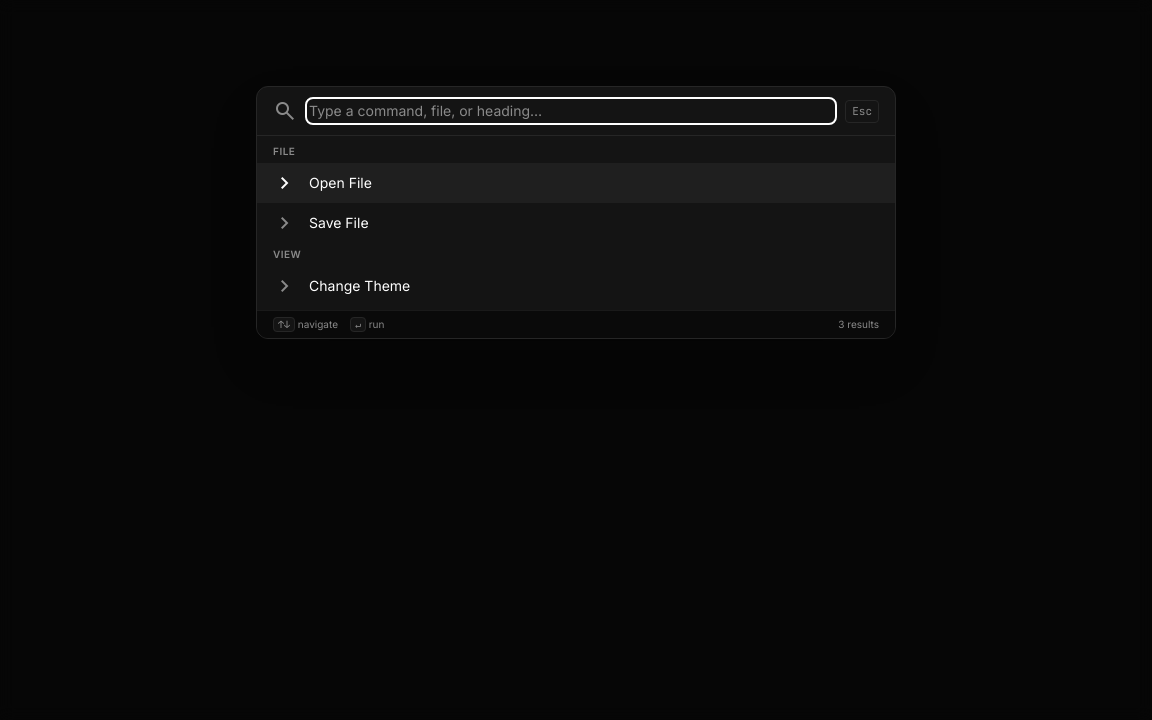
Test: CommandPalette › announces an empty result set instead of going silent
In the dropdown named "Search commands": (571, 111) [309, 101, 833, 121], type "zzzz"
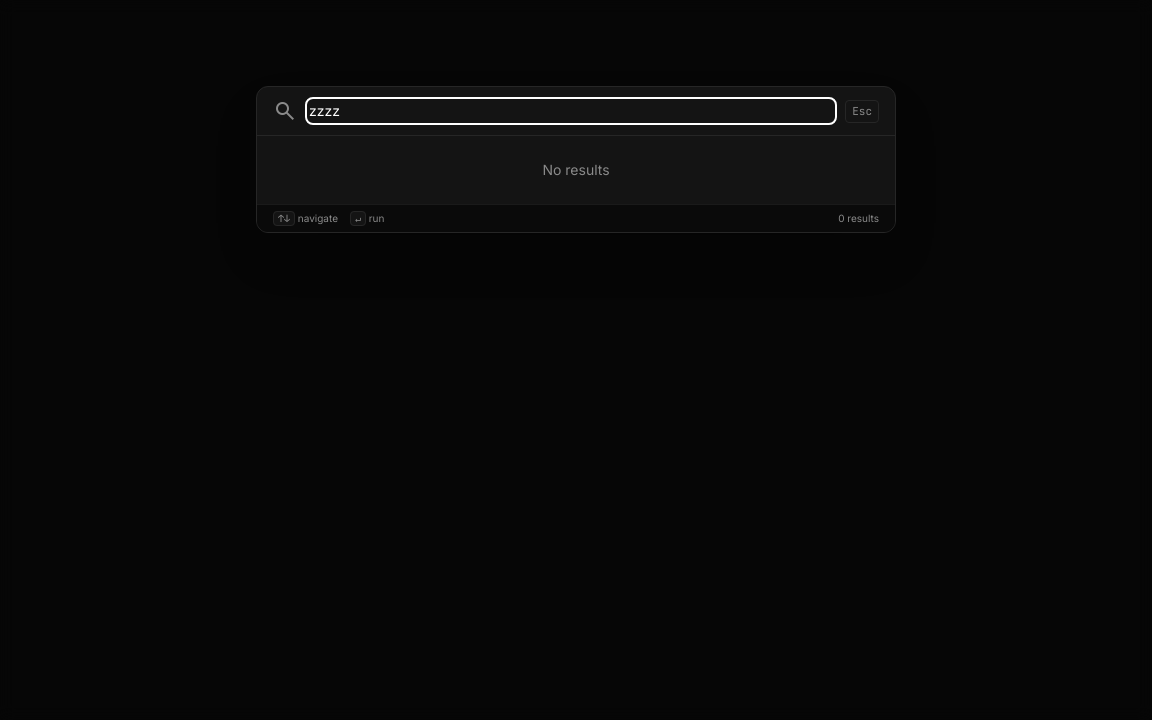
Check: the message reads "No results", box [542, 161, 610, 178]
Check: the dropdown named "Search commands" is collapsed, box [309, 101, 833, 121]
Check: the list is gone
